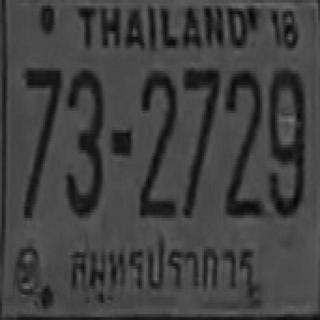N02: (138, 66, 175, 216), (224, 67, 261, 214), (140, 68, 176, 210), (225, 68, 260, 204)
N03: (64, 67, 103, 214)
N07: (23, 65, 61, 215), (182, 65, 219, 215), (182, 65, 219, 192), (24, 67, 60, 197), (24, 65, 60, 167), (182, 65, 219, 164)
N09: (267, 67, 304, 214)
P57: (67, 229, 260, 301)
